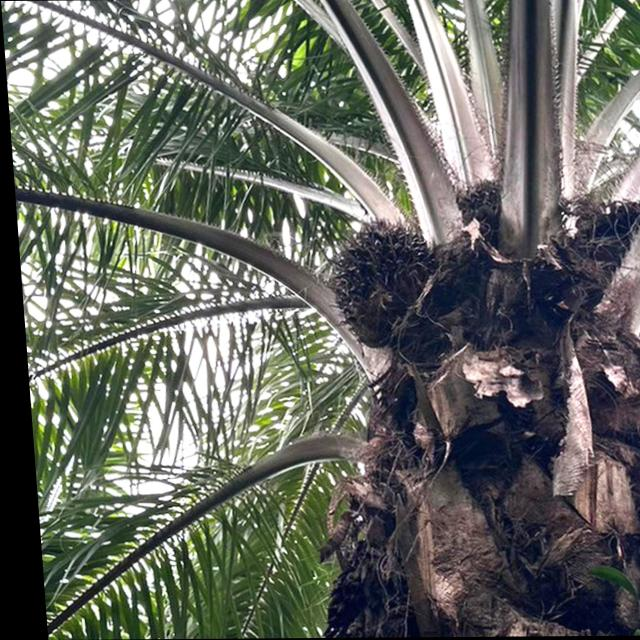unripe: (303, 208, 446, 361)
